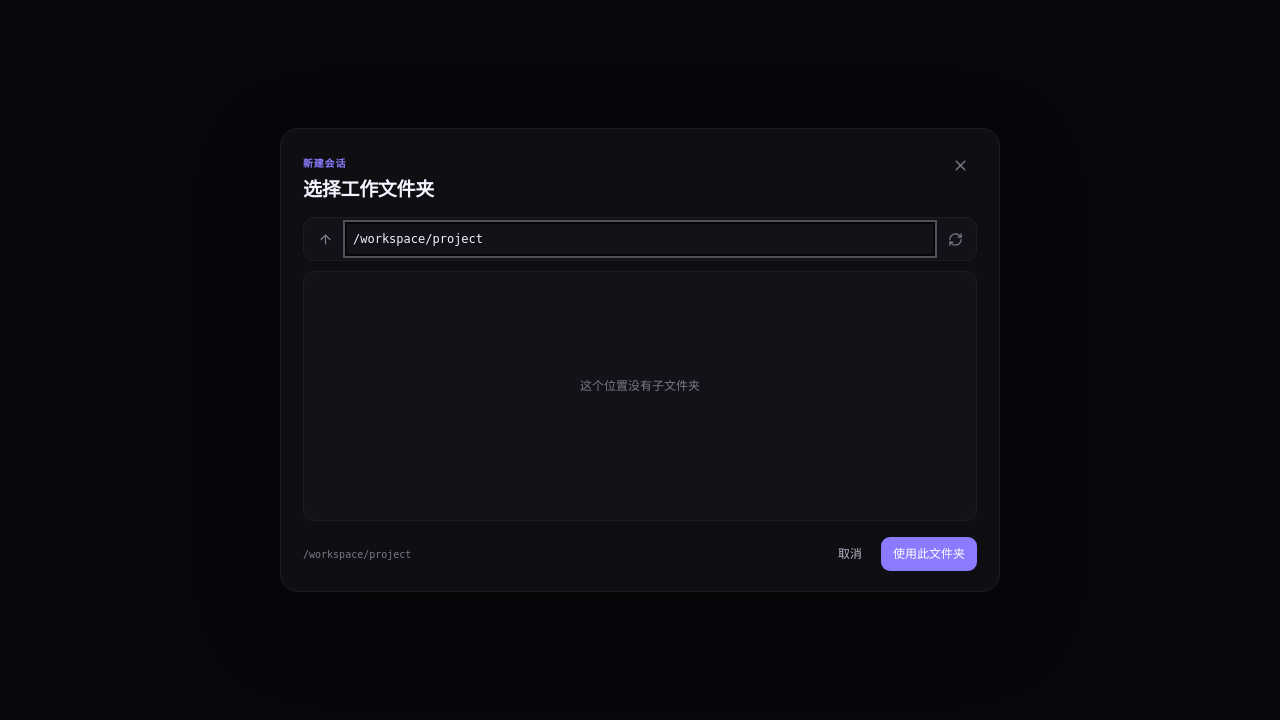
DirectoryPickerModal › 校验失败时保留弹窗和错误原因
Click the button "使用此文件夹" at coordinates (929, 554), box [881,537,977,571]
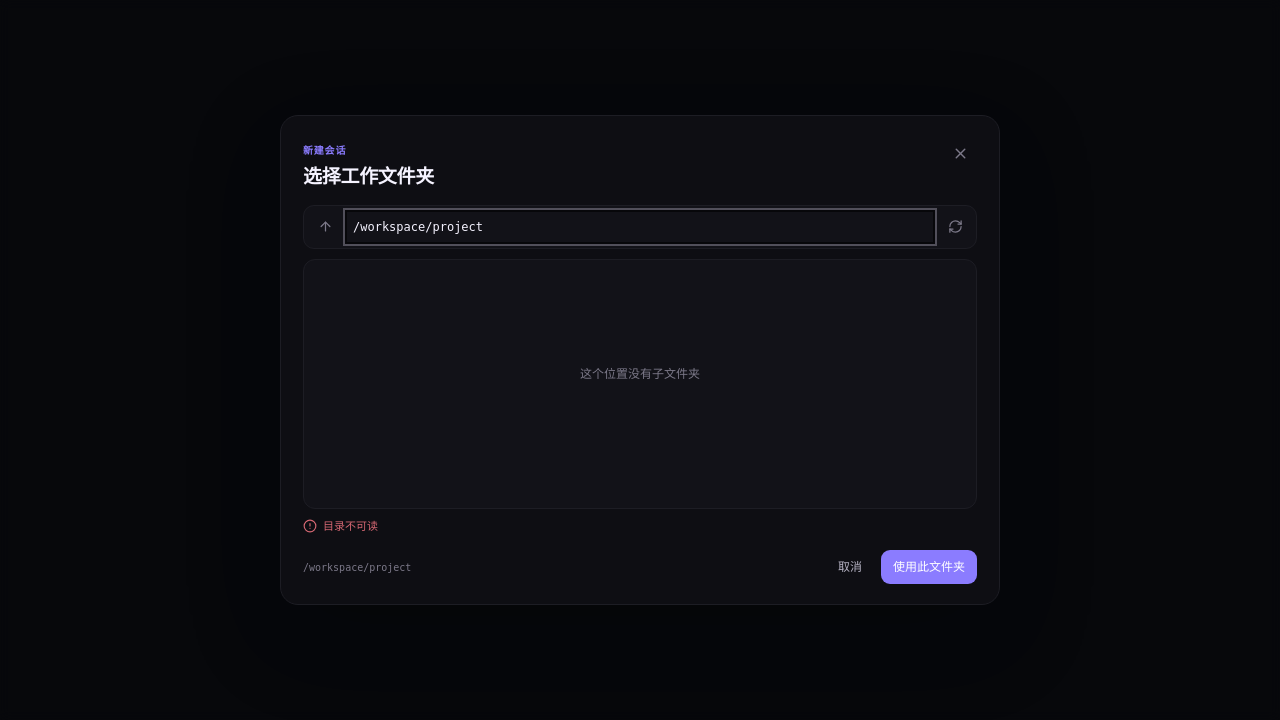
expect the dialog is shown: met, box [280,115,1000,605]
expect the message "目录不可读" is shown: met, box [303,518,378,533]
